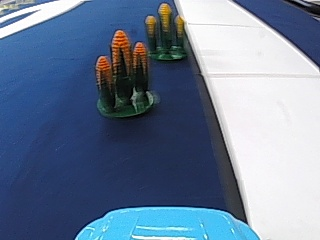corn: (91, 27, 158, 120), (147, 4, 187, 62)
